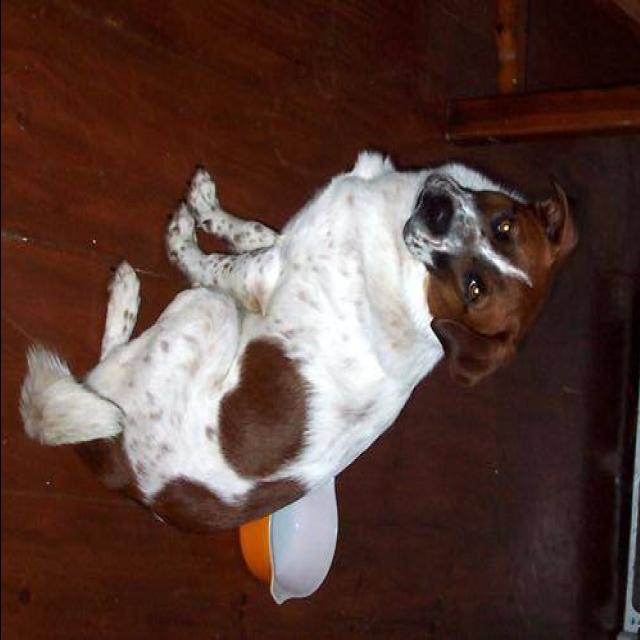dog: (0, 129, 612, 579)
